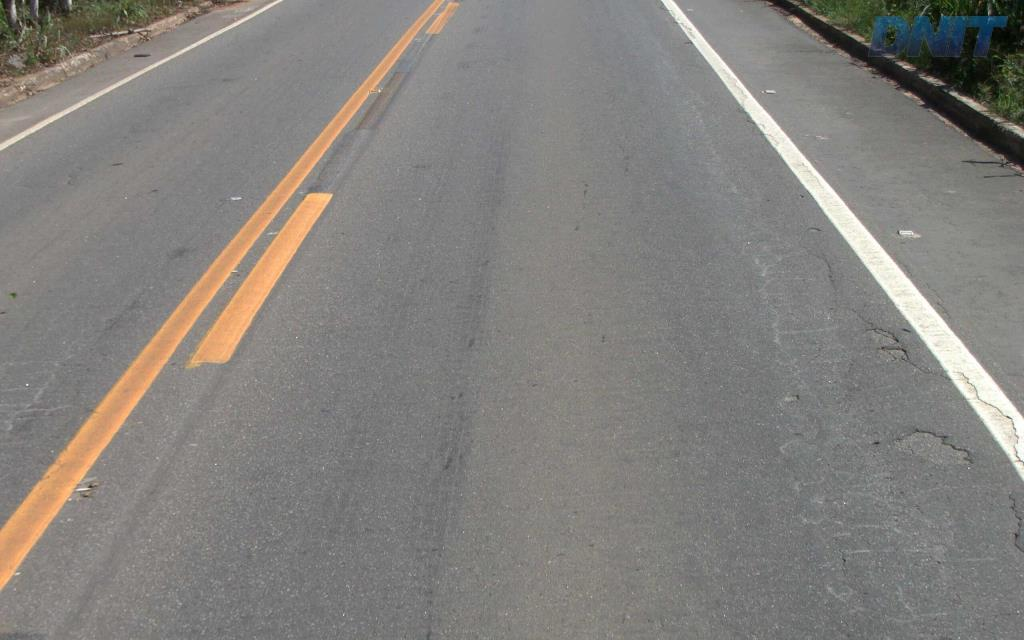pothole: (883, 421, 980, 472), (857, 321, 919, 368), (778, 387, 808, 405)
